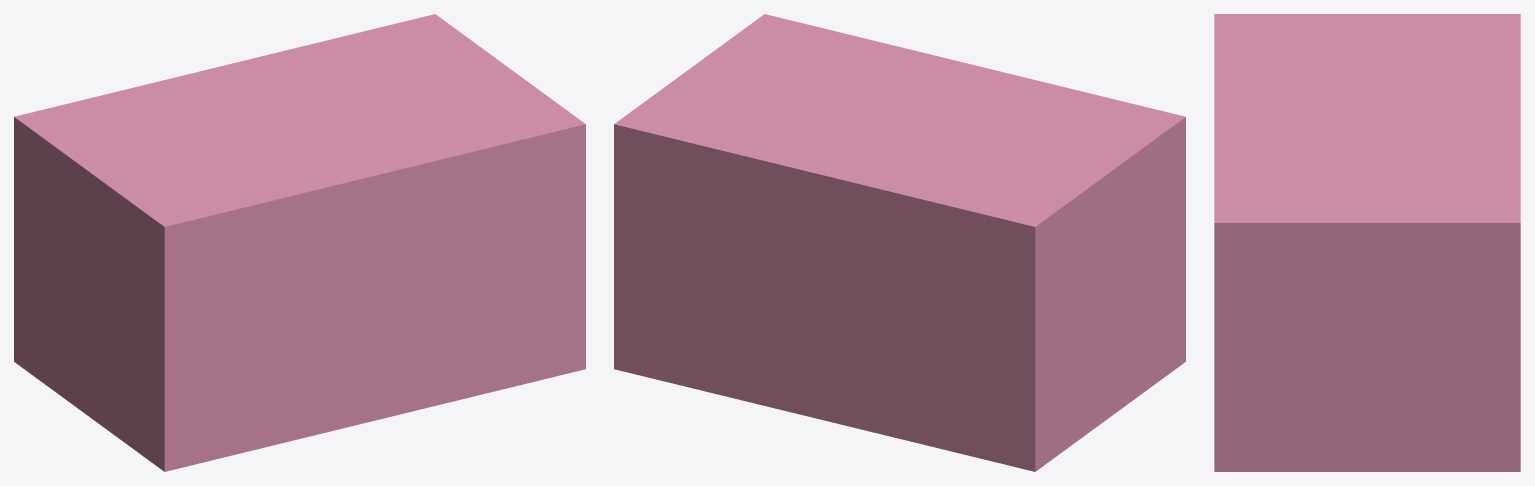
The model's file is crate_rect_unbroken.DAE.
3 renders of one model, left to right at view 1: azimuth 30°, elevation 25°; view 2: azimuth 150°, elevation 25°; view 3: azimuth 270°, elevation 25°, orthographic.
Visible parts, largest first — view 1: bounds; view 2: bounds; view 3: bounds.
Boxes of the visible parts, <box> form: bounds: <box>14,14,585,471</box>; bounds: <box>614,14,1185,471</box>; bounds: <box>1214,14,1520,471</box>.
Size of the model in its own units: 1.84 by 1.14 by 1.02.
